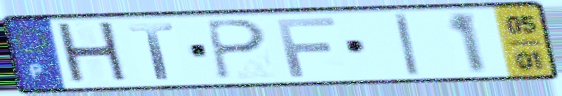1: (445, 11, 491, 76)
F: (273, 15, 340, 79)
H: (52, 19, 134, 88)
I: (391, 11, 424, 79)
P: (202, 18, 270, 83)
T: (126, 21, 178, 81)
